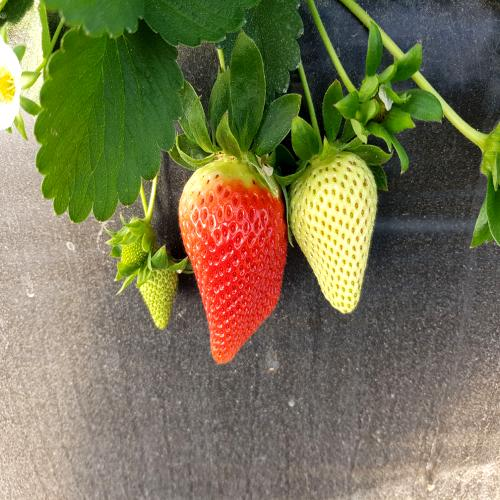ripe: (175, 148, 287, 369)
unripe: (291, 148, 379, 319)
